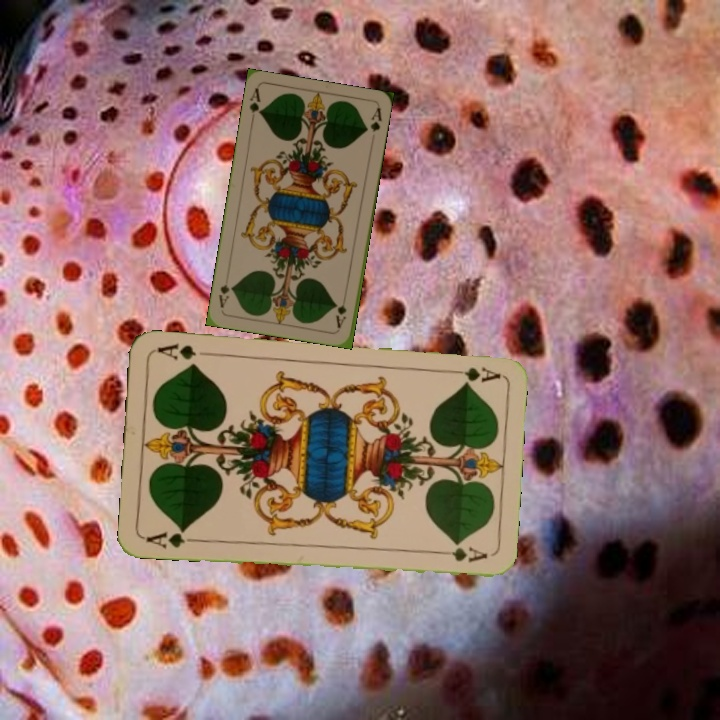GA: (142, 525, 201, 551), (443, 363, 502, 384), (245, 85, 264, 125), (332, 290, 349, 331)
